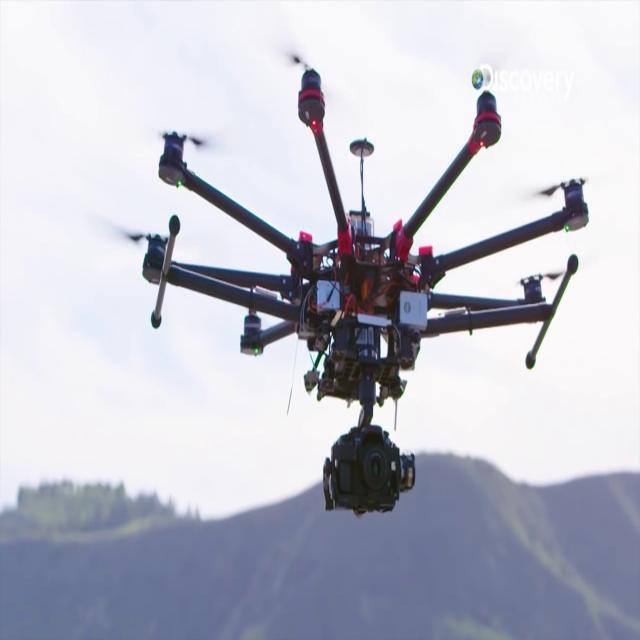drone: (155, 23, 604, 461)
